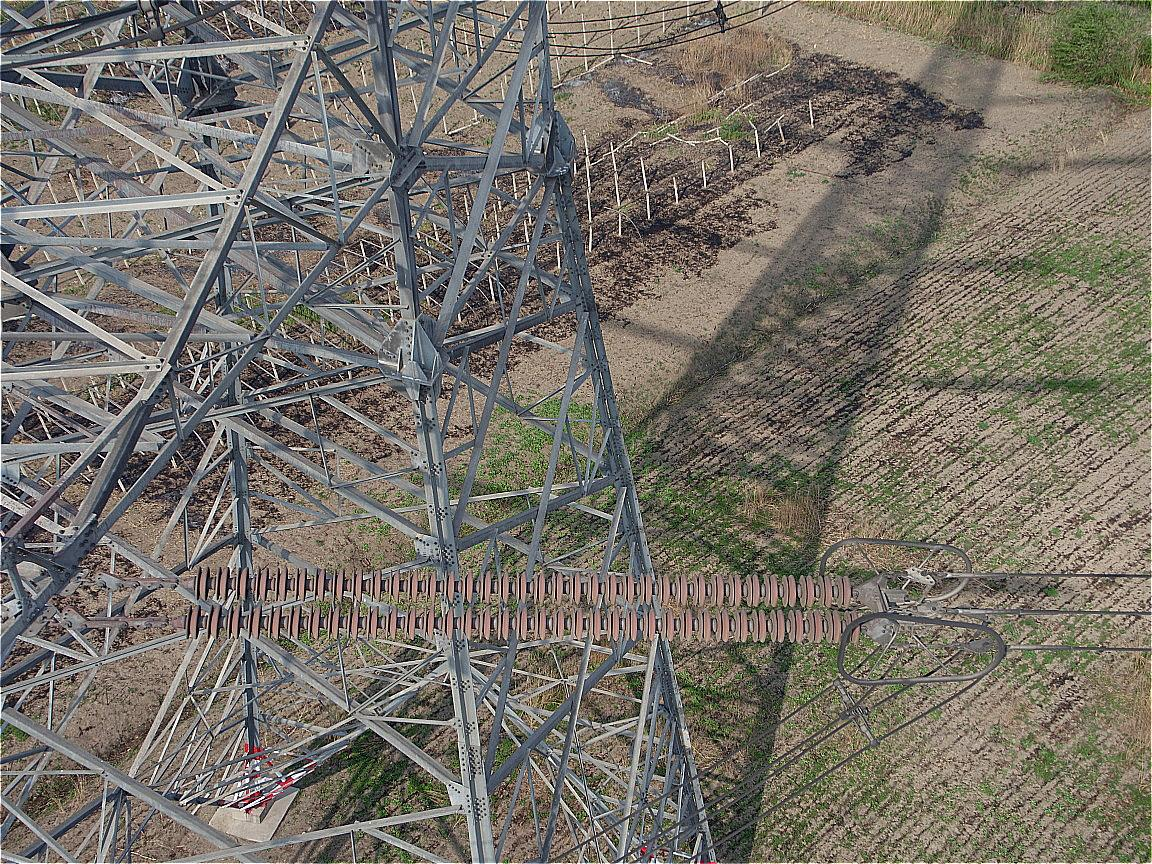insultor2: (182, 565, 863, 648)
